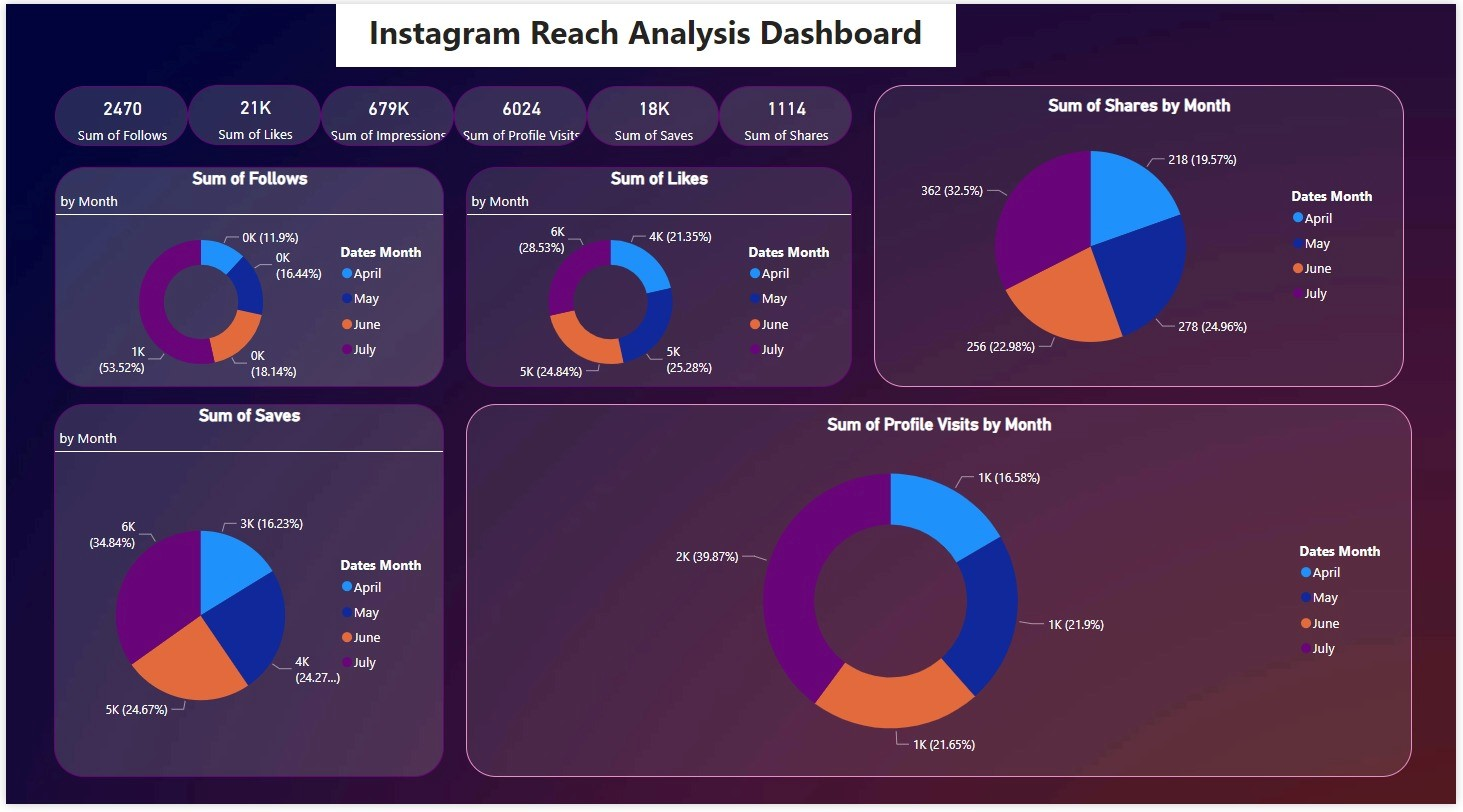

This screenshot's page, from the dashboard's own definition file:
{"tool":"powerbi","page":{"name":"Page 1","canvas":[1250,800],"ordinal":0},"visuals":[{"type":"textbox","box":[330.1,0,619.7,62.9],"z":0},{"type":"donutChart","fields":{"Category":["Instagram_data.Dates.Variation.Date Hierarchy.Month"],"Y":["Sum(Instagram_data.Follows)"]},"box":[49,163,389,220],"z":1000},{"type":"donutChart","fields":{"Category":["Instagram_data.Dates.Variation.Date Hierarchy.Month"],"Y":["Sum(Instagram_data.Likes)"]},"box":[460,163,365,220],"z":2000},{"type":"pieChart","fields":{"Category":["Instagram_data.Dates.Variation.Date Hierarchy.Month"],"Y":["Sum(Instagram_data.Saves)"]},"box":[48,400,390,203],"z":3000},{"type":"donutChart","fields":{"Category":["Instagram_data.Dates.Variation.Date Hierarchy.Month"],"Y":["Sum(Instagram_data.Profile Visits)"]},"box":[854.3,400,372.9,202.9],"z":4000},{"type":"pieChart","fields":{"Category":["Instagram_data.Dates.Variation.Date Hierarchy.Month"],"Y":["Sum(Instagram_data.Shares)"]},"box":[854.3,162.9,372.9,220],"z":5000},{"type":"card","fields":{"Values":["Sum(Instagram_data.Follows)"]},"box":[49,82,133,60],"z":7000},{"type":"card","fields":{"Values":["Sum(Instagram_data.Likes)"]},"box":[273,82,133,60],"z":8000},{"type":"card","fields":{"Values":["Sum(Instagram_data.Impressions)"]},"box":[478,82,133,60],"z":9000},{"type":"card","fields":{"Values":["Sum(Instagram_data.Profile Visits)"]},"box":[706,82,133,60],"z":10000},{"type":"card","fields":{"Values":["Sum(Instagram_data.Saves)"]},"box":[900,82,133,60],"z":11000},{"type":"card","fields":{"Values":["Sum(Instagram_data.Shares)"]},"box":[1094,82,133,60],"z":12000}]}

Visuals, with their boxes on the page's 1250x800 design canvas (x1, y1, x2, y2). These are canvas units, not pixel positions in the 1463x812 screenshot, which may show the page scaled, cropped or inside an application window:
textbox: [330,0,950,63]
donutChart - Instagram_data.Dates.Variation.Date Hierarchy.Month x Sum(Instagram_data.Follows): [49,163,438,383]
donutChart - Instagram_data.Dates.Variation.Date Hierarchy.Month x Sum(Instagram_data.Likes): [460,163,825,383]
pieChart - Instagram_data.Dates.Variation.Date Hierarchy.Month x Sum(Instagram_data.Saves): [48,400,438,603]
donutChart - Instagram_data.Dates.Variation.Date Hierarchy.Month x Sum(Instagram_data.Profile Visits): [854,400,1227,603]
pieChart - Instagram_data.Dates.Variation.Date Hierarchy.Month x Sum(Instagram_data.Shares): [854,163,1227,383]
card - Sum(Instagram_data.Follows): [49,82,182,142]
card - Sum(Instagram_data.Likes): [273,82,406,142]
card - Sum(Instagram_data.Impressions): [478,82,611,142]
card - Sum(Instagram_data.Profile Visits): [706,82,839,142]
card - Sum(Instagram_data.Saves): [900,82,1033,142]
card - Sum(Instagram_data.Shares): [1094,82,1227,142]
